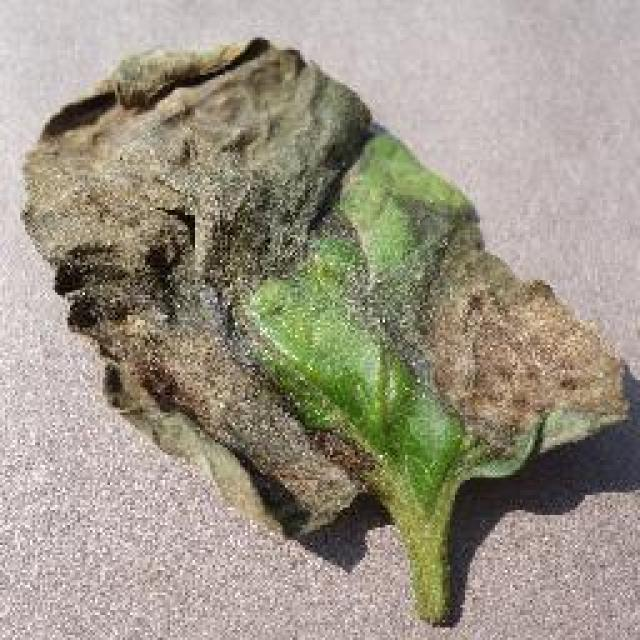Tomato Late Blight: (28, 32, 542, 490)
